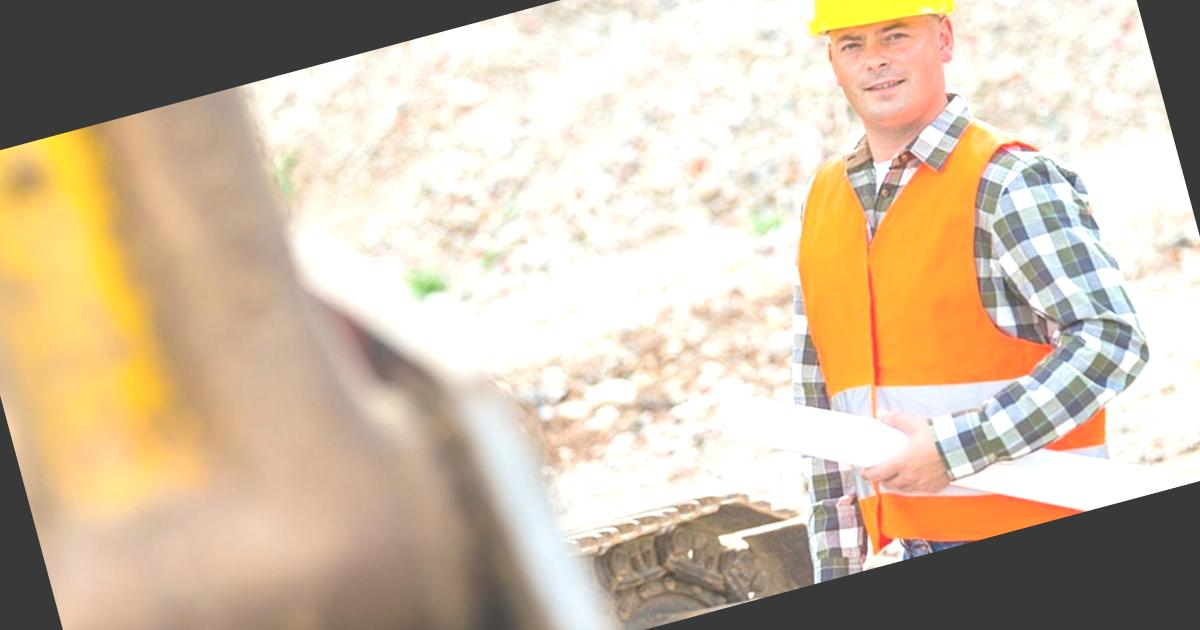helmet: (771, 0, 968, 54)
person: (693, 0, 1184, 572)
